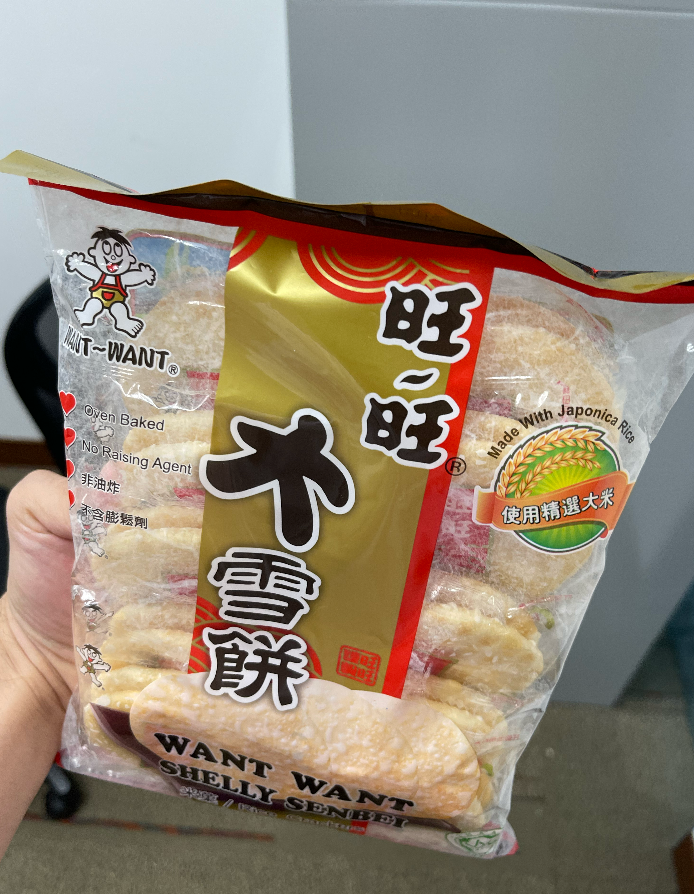crackers_100g-199g: (75, 212, 522, 852)
